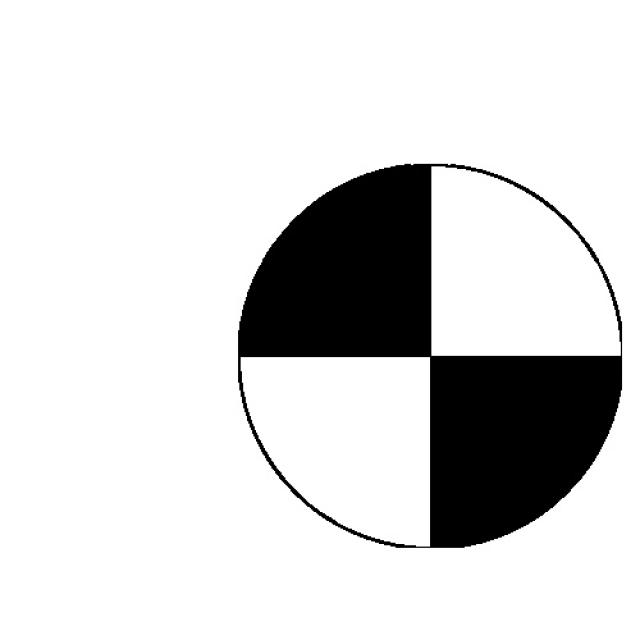Marcadores: (238, 163, 623, 548)
